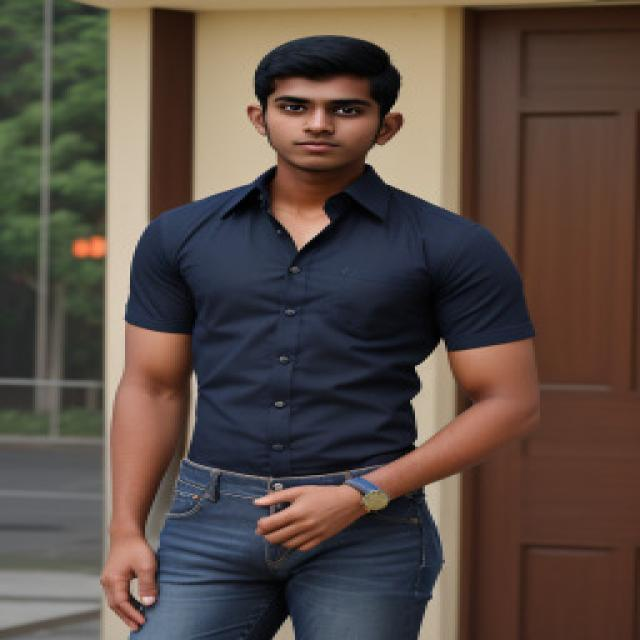Ai human 2: (84, 26, 558, 640)
